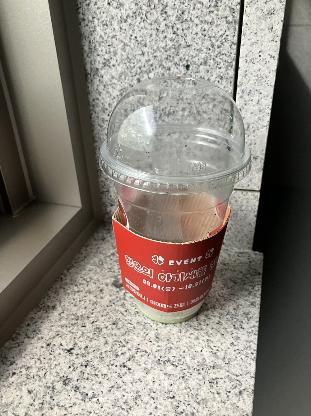Plastic Cup: (100, 75, 254, 325), (97, 74, 254, 196)
